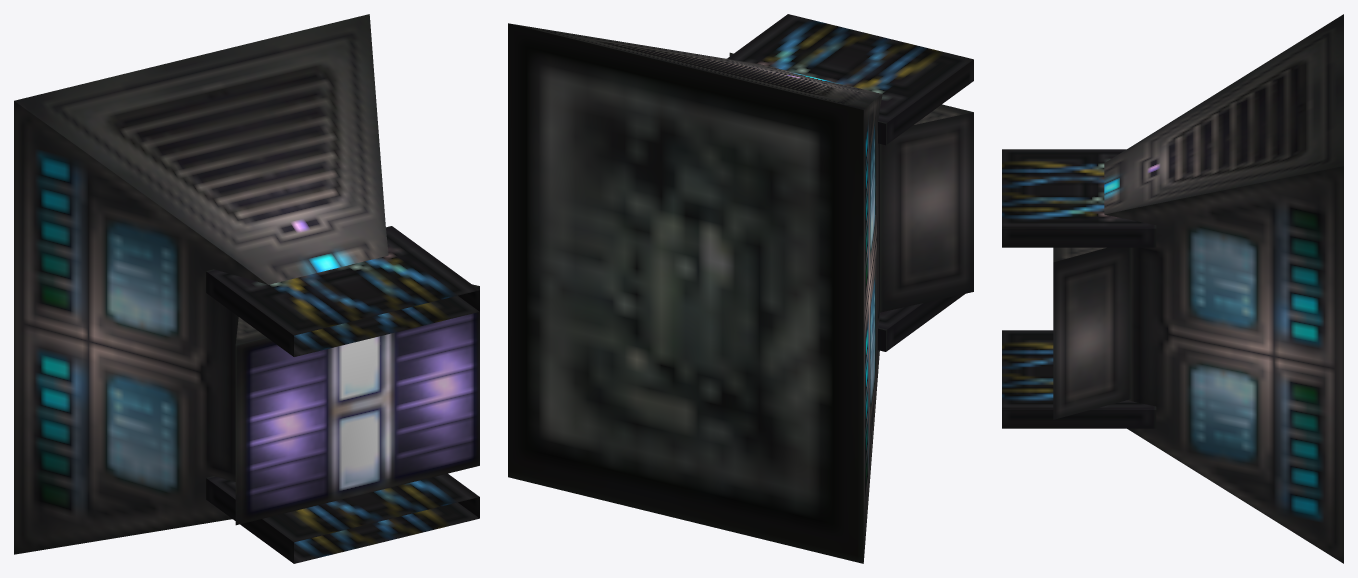
File: acs43.obj
3 views of the same model, side by side, from view 1: azimuth 30°, elevation 25°; view 2: azimuth 150°, elevation 25°; view 3: azimuth 270°, elevation 25° (orthographic). The views are drawn at different scales.
Parts seen in each view (by area): view 1: frm-base, frm-connector, frm-connector1; view 2: frm-base, frm-connector, frm-connector1; view 3: frm-base, frm-connector, frm-connector1.
Boxes of the visible parts, bbox=[...] form: frm-base: bbox=[14, 14, 479, 554]; frm-connector: bbox=[206, 226, 479, 356]; frm-connector1: bbox=[206, 473, 479, 563]; frm-base: bbox=[508, 23, 973, 563]; frm-connector: bbox=[727, 14, 973, 145]; frm-connector1: bbox=[878, 293, 965, 351]; frm-base: bbox=[1053, 14, 1343, 563]; frm-connector: bbox=[1002, 149, 1156, 247]; frm-connector1: bbox=[1002, 330, 1156, 428].
Bounding box in the file's own units: 1.71 × 2.09 × 1.62.
Materials: 1 (1 with a texture image).
